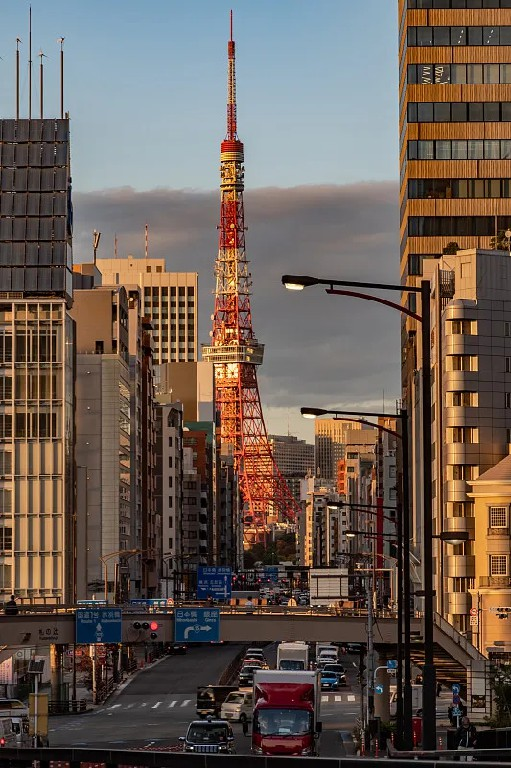Tokyo: (202, 10, 303, 532)
